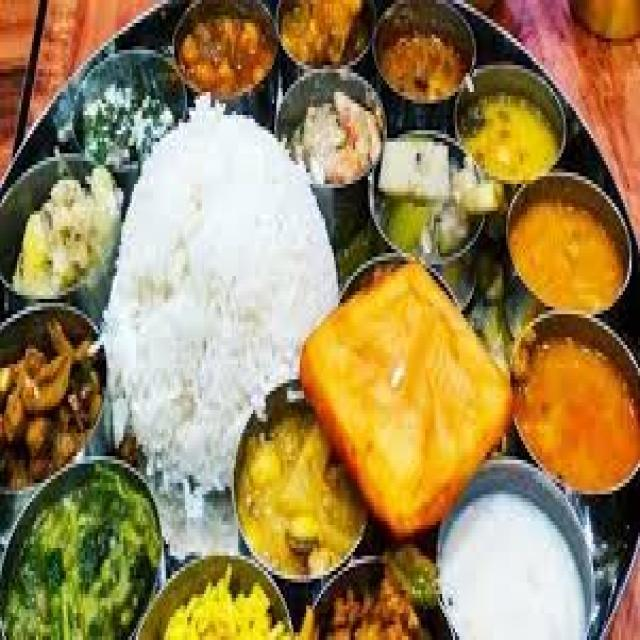curd: (430, 469, 595, 640)
rice: (106, 104, 330, 455)
sambar-rasam: (510, 316, 636, 502), (279, 70, 383, 196), (172, 0, 284, 111), (374, 0, 475, 113)
sweet: (8, 165, 113, 304), (277, 74, 387, 193)
veg-fry: (3, 298, 101, 491), (138, 542, 302, 640)
